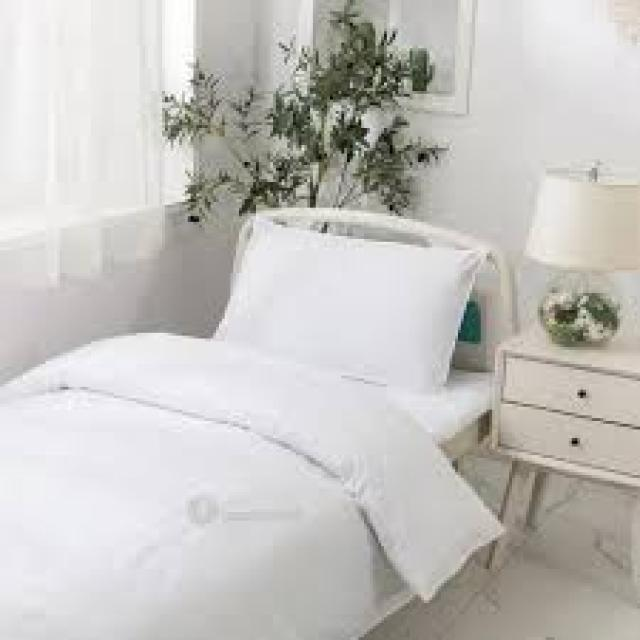bed: (0, 205, 518, 638)
